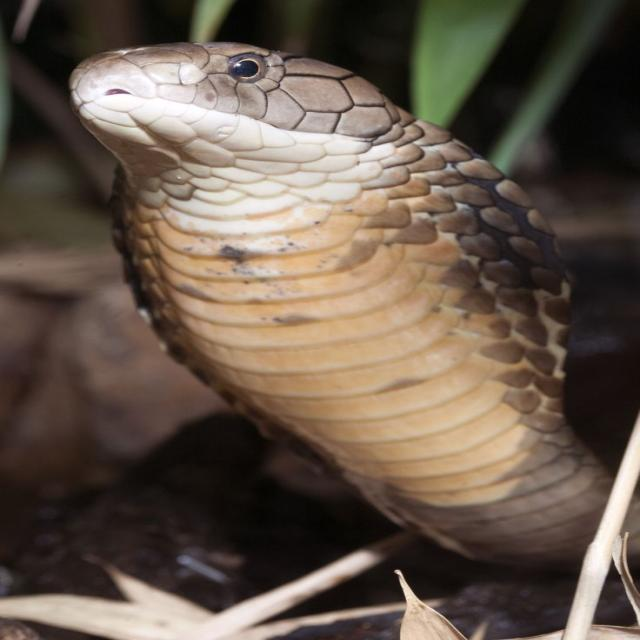Snake: (66, 39, 634, 571)
